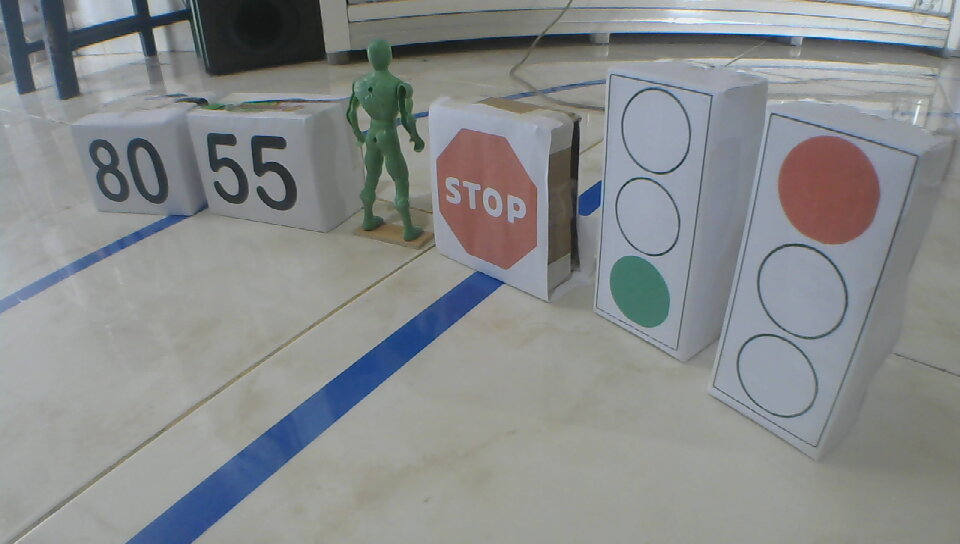Green Light: (602, 85, 694, 335)
Person: (342, 39, 429, 242)
Red Light: (735, 135, 882, 422)
Speed 55: (204, 131, 301, 211)
Speed 80: (87, 137, 172, 205)
Stop: (436, 127, 540, 270)
